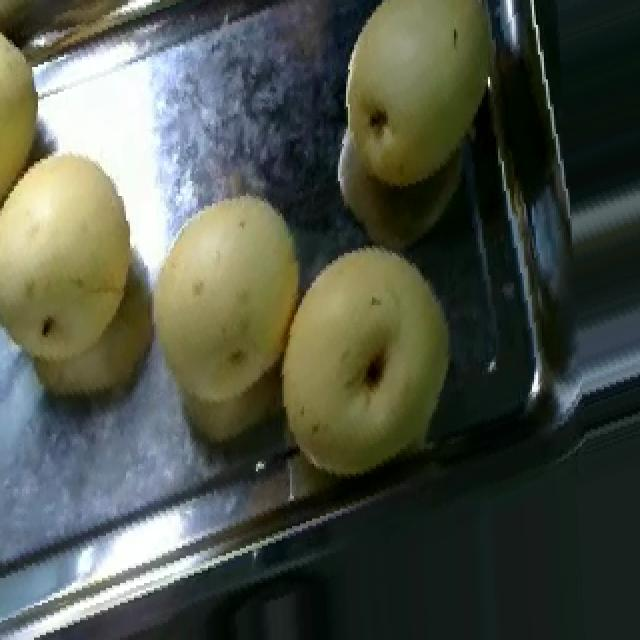Fruit: (120, 169, 338, 476), (258, 218, 476, 508), (0, 129, 160, 437), (340, 0, 532, 216), (0, 0, 66, 238)
